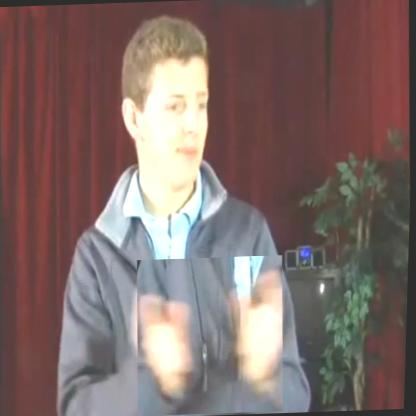NiceToMeetYou: (135, 256, 289, 416)
